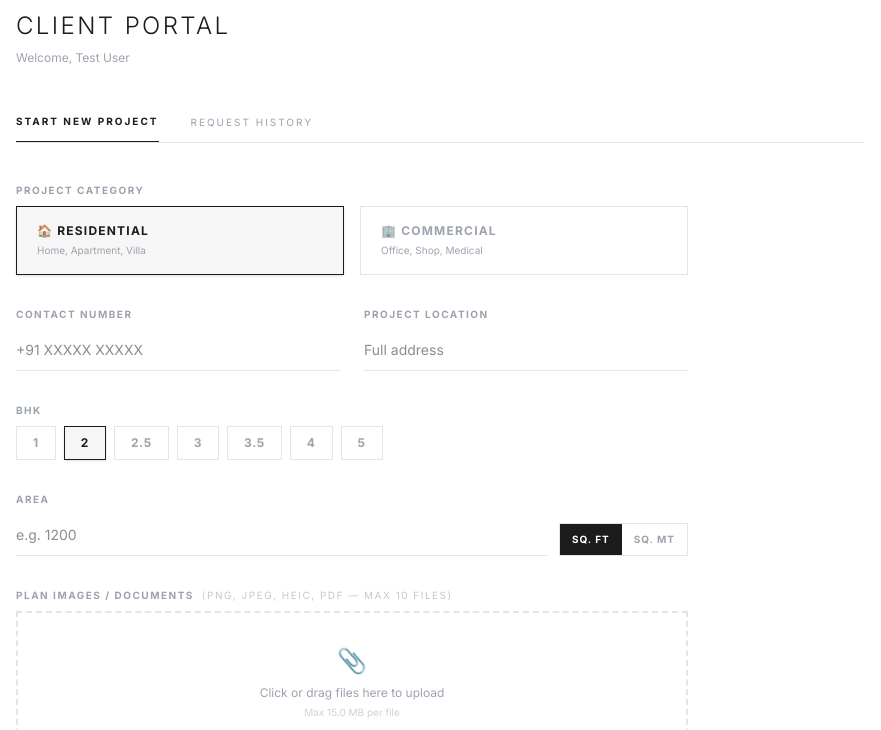
Test case: TrackRequestPage — NEW additional cases › switching to Commercial shows the commercial type dropdown
The image size is (881, 730).
Click the text "🏢 Commercial" at (439, 230), box [381,223,497,238]
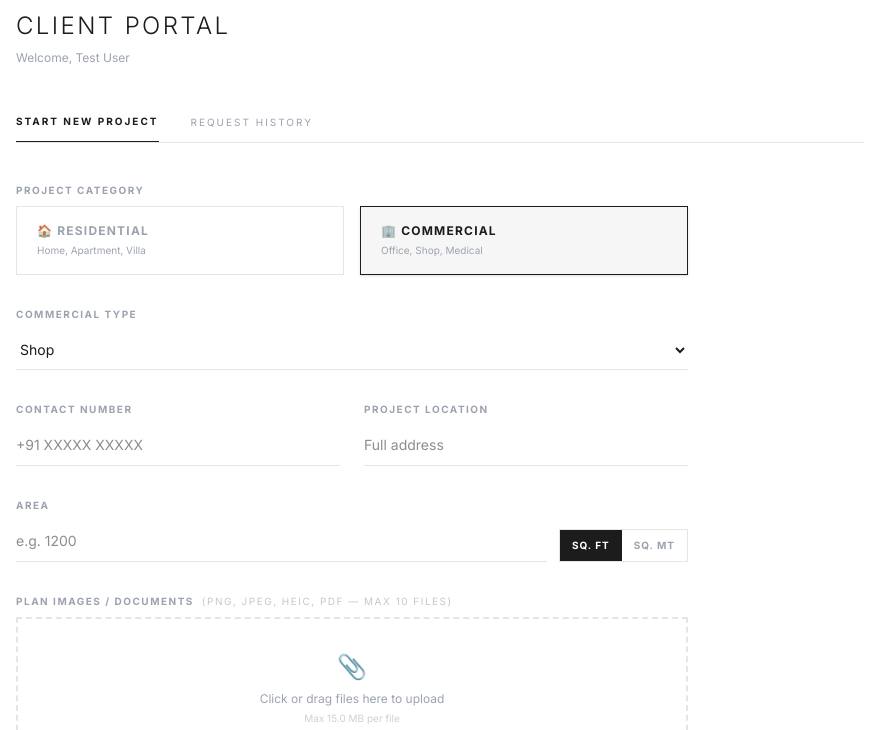
Result: the text "Commercial Type" is shown at [16,308,137,320]
